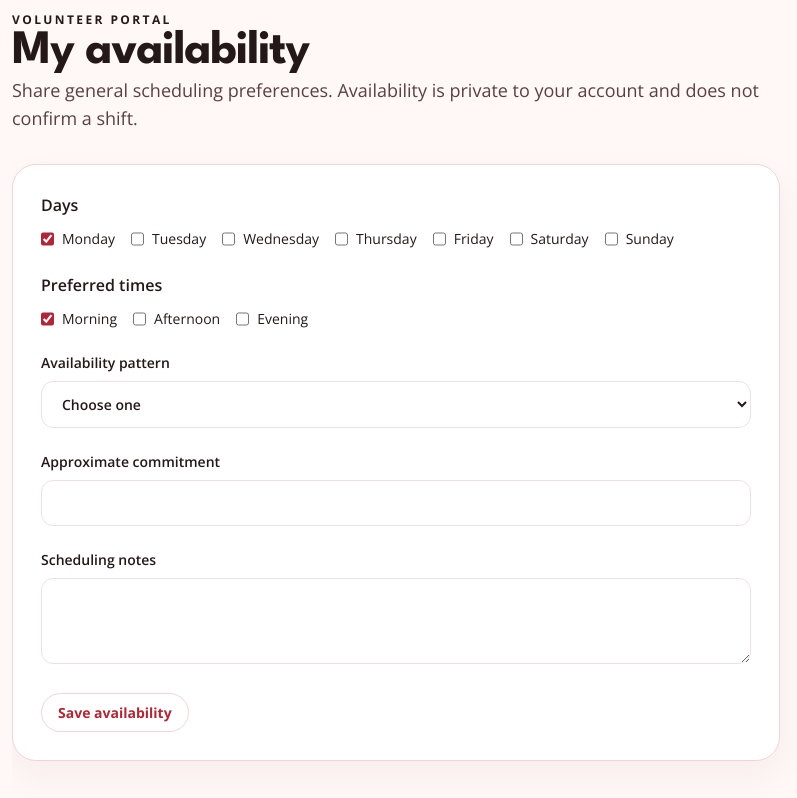
Test case: volunteer portal pages › persists structured availability without implying a booked shift
The image size is (797, 798).
Click the checkbox labelled "Tuesday": point(138, 239) [131, 229, 144, 249]
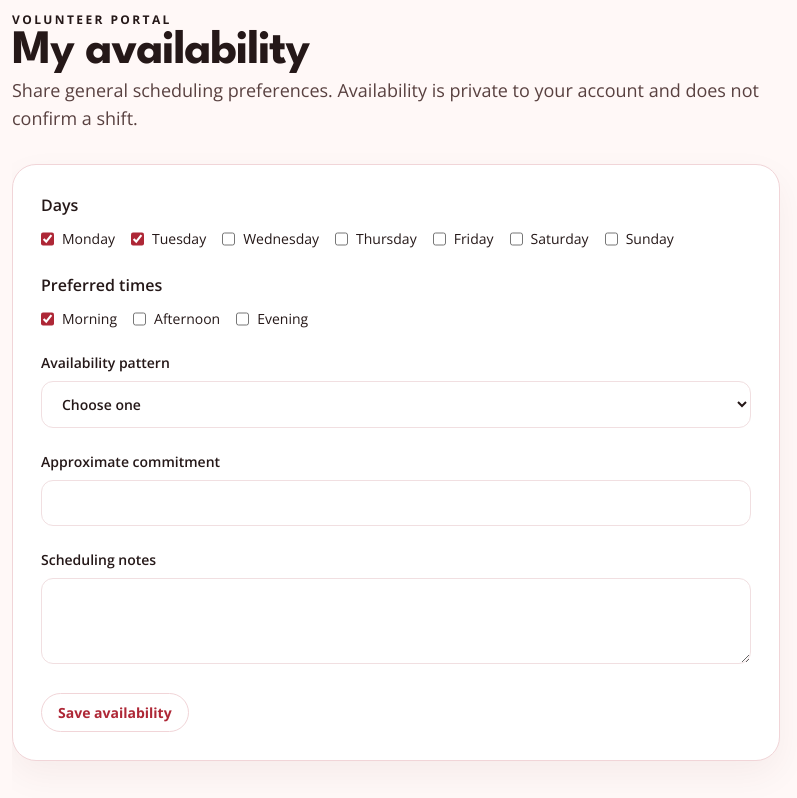
Click the button "Save availability": point(115, 712) [41, 693, 189, 732]
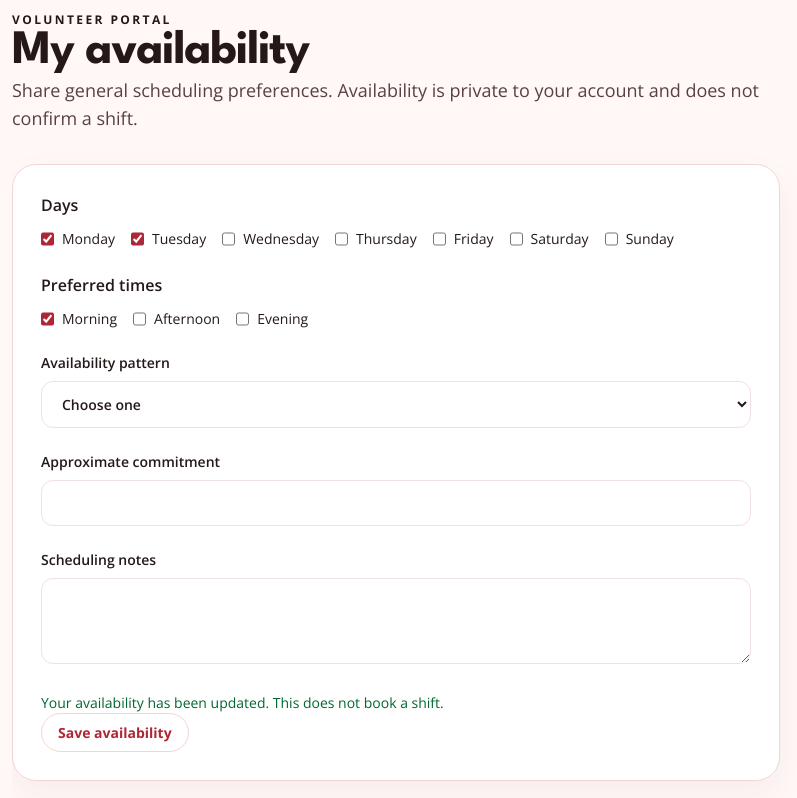
Expected: the message shows "does not book a shift", [41, 693, 444, 712]
